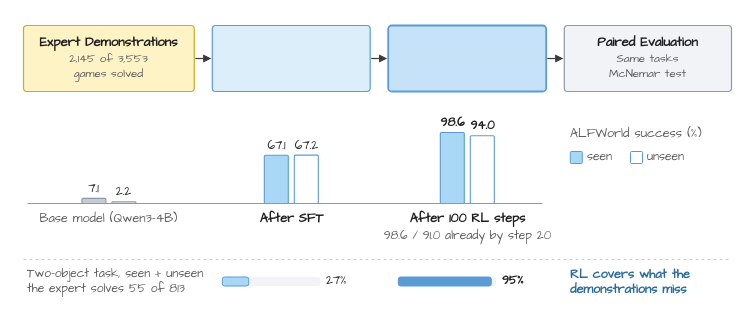
The diagram is 754 pixels wide and 318 high, and some of its shapes have lost their labels. Each missing label, with the box of its shape:
Multi-Turn RL StepCredit-RL 100 steps · 14.4 h: (387, 24, 547, 92)
SFT Loss on tool calls 1 epoch · ≈ 1.4 h: (211, 24, 370, 92)
